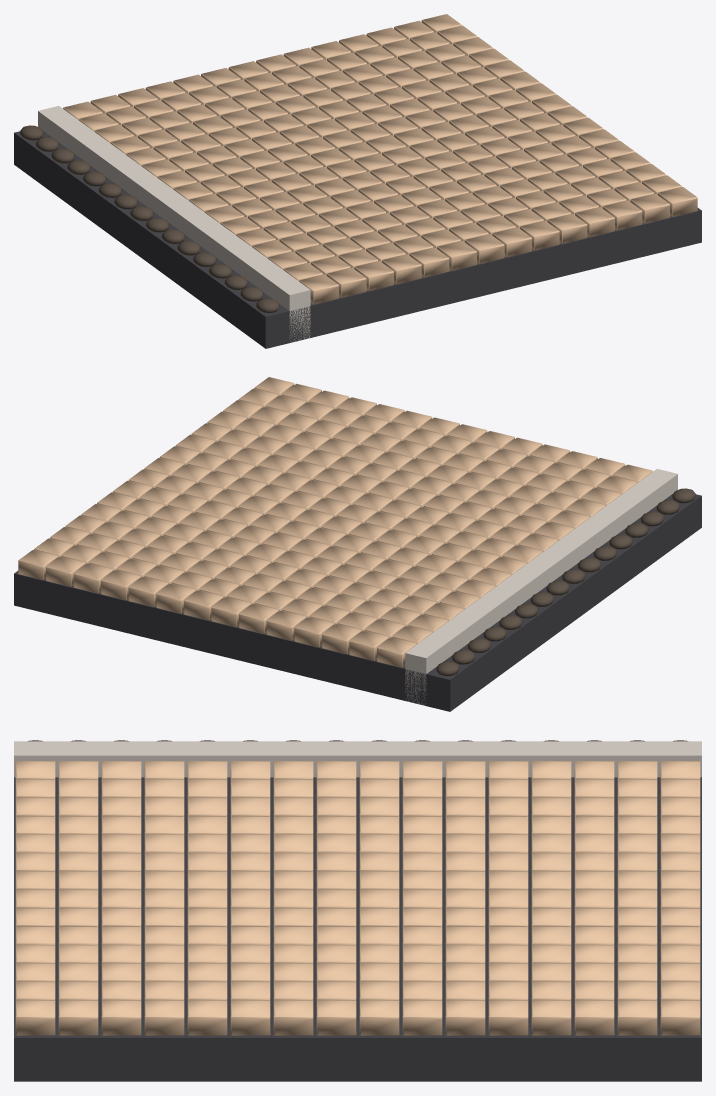
Rendered from 28-sidewalk-straight.glb.
3 views of the same model, one above another, from view 1: azimuth 30°, elevation 25°; view 2: azimuth 150°, elevation 25°; view 3: azimuth 270°, elevation 25° (orthographic). The views are drawn at different scales.
Parts seen in each view (by area): view 1: Base, Curb, PaverProto.065, PaverProto.145, PaverProto.177, PaverProto.129, PaverProto.081, PaverProto.017, PaverProto.161, PaverProto.209, PaverProto.001, PaverProto.033 (+4 smaller); view 2: Base, Curb, PaverProto.080, PaverProto.160, PaverProto.192, PaverProto.144, PaverProto.096, PaverProto.032, PaverProto.176, PaverProto.224, PaverProto.016, PaverProto.048 (+4 smaller); view 3: Base, Curb, PaverProto.209, PaverProto.210, PaverProto.211, PaverProto.212, PaverProto.213, PaverProto.214, PaverProto.215, PaverProto.216, PaverProto.217, PaverProto.218 (+214 smaller).
Part boxes in pixels (box(x1,y1,x2,y2)): Base: box(14, 131, 701, 348); Curb: box(38, 106, 310, 341); PaverProto.065: box(409, 247, 449, 277); PaverProto.145: box(547, 214, 587, 243); PaverProto.177: box(602, 200, 642, 230); PaverProto.129: box(519, 220, 559, 250); PaverProto.081: box(437, 240, 476, 270); PaverProto.017: box(326, 267, 366, 297); PaverProto.161: box(575, 207, 614, 237); PaverProto.209: box(657, 187, 697, 216); PaverProto.001: box(299, 274, 338, 304); PaverProto.033: box(354, 261, 393, 290); Base: box(14, 494, 701, 711); Curb: box(405, 469, 677, 705); PaverProto.080: box(266, 610, 306, 640); PaverProto.160: box(128, 577, 168, 606); PaverProto.192: box(73, 563, 113, 593); PaverProto.144: box(156, 583, 196, 613); PaverProto.096: box(239, 603, 278, 633); PaverProto.032: box(349, 630, 389, 660); PaverProto.176: box(101, 570, 140, 600); PaverProto.224: box(18, 550, 58, 579); PaverProto.016: box(377, 637, 416, 667); PaverProto.048: box(322, 624, 361, 653); Base: box(14, 777, 701, 1081); Curb: box(14, 741, 701, 777); PaverProto.209: box(15, 1000, 55, 1035); PaverProto.210: box(58, 1000, 98, 1035); PaverProto.211: box(101, 1000, 141, 1035); PaverProto.212: box(144, 1000, 184, 1035); PaverProto.213: box(187, 1000, 227, 1035); PaverProto.214: box(230, 1000, 270, 1035); PaverProto.215: box(273, 1000, 313, 1035); PaverProto.216: box(316, 1000, 356, 1035); PaverProto.217: box(359, 1000, 399, 1035); PaverProto.218: box(402, 1000, 442, 1035).
Size of the model in its own units: 3 by 0.315 by 3.
